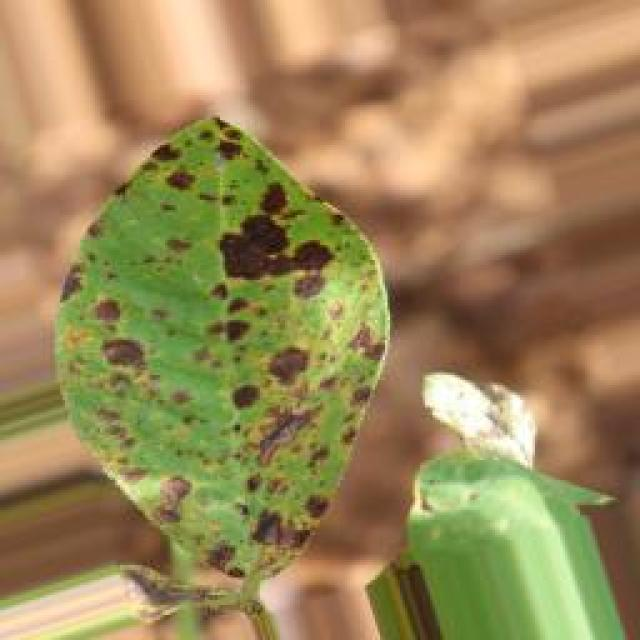Yellowish: (54, 117, 398, 594)
